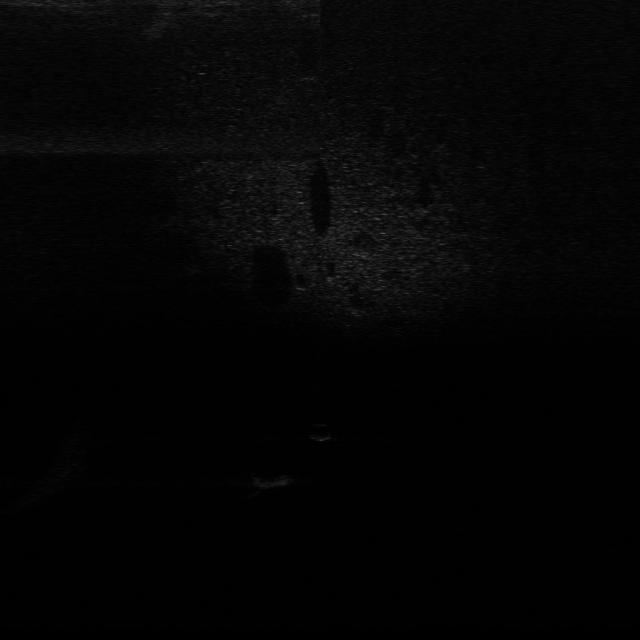ball: (311, 421, 333, 442)
square cage: (250, 468, 298, 490)
